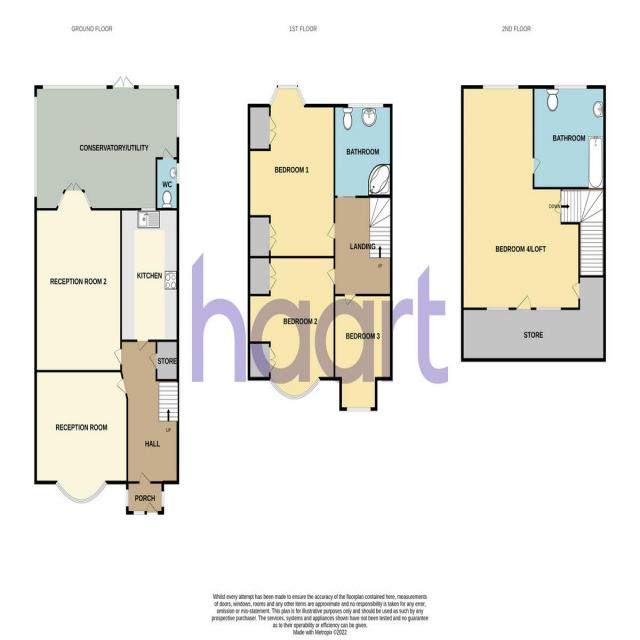DOOR: (516, 294, 531, 310), (116, 377, 128, 395), (532, 157, 542, 175), (571, 282, 581, 300), (326, 268, 336, 286), (136, 339, 149, 352), (344, 293, 356, 306), (146, 502, 158, 515), (139, 471, 151, 484), (327, 222, 336, 239), (113, 348, 122, 365), (553, 199, 562, 215), (162, 147, 174, 159)
DOUBLE DOOR: (63, 181, 85, 194)
ROOM: (461, 85, 580, 310), (34, 182, 122, 373), (247, 84, 336, 258), (247, 256, 336, 400), (34, 370, 129, 504), (120, 208, 179, 352), (333, 293, 393, 412)
WINDOW: (268, 376, 321, 400), (55, 480, 108, 504), (268, 84, 306, 107), (482, 85, 519, 90), (347, 103, 384, 108), (554, 85, 587, 90), (83, 191, 92, 209), (346, 406, 371, 412), (535, 306, 561, 311), (57, 192, 65, 208), (486, 306, 509, 311), (176, 163, 180, 185), (133, 510, 145, 515), (141, 208, 156, 212), (126, 489, 129, 507), (161, 490, 164, 508)
